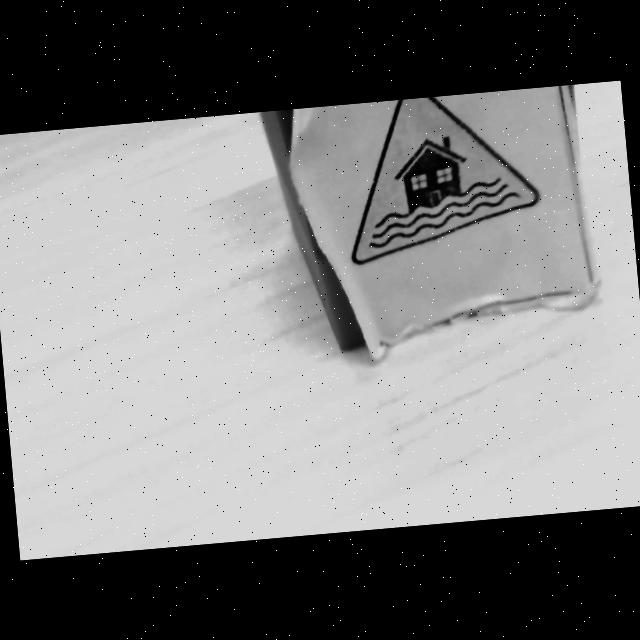Tsunami: (262, 84, 598, 357), (351, 96, 539, 264)
